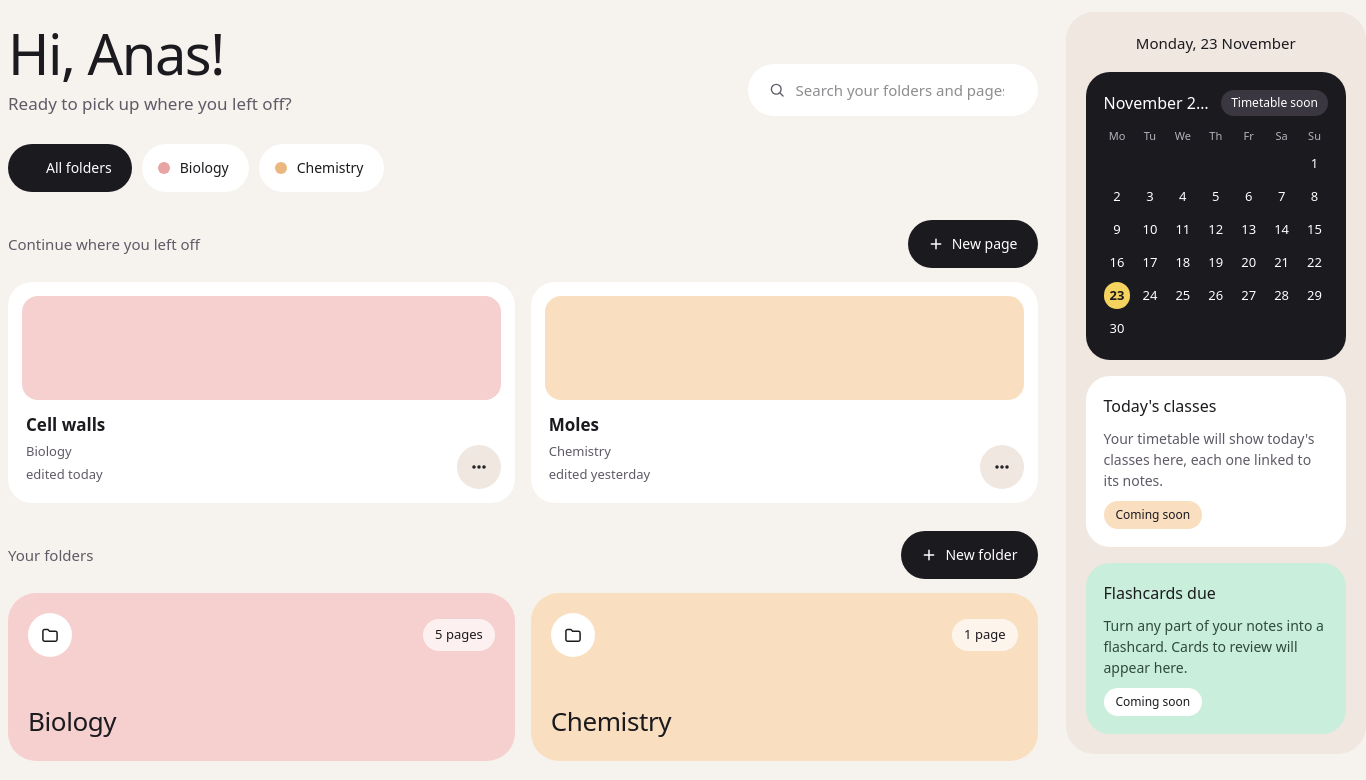
Dashboard › chip filter narrows both the folders and the recent pages
Click the button "Chemistry". click: (321, 168)
box: [259,144,384,192]
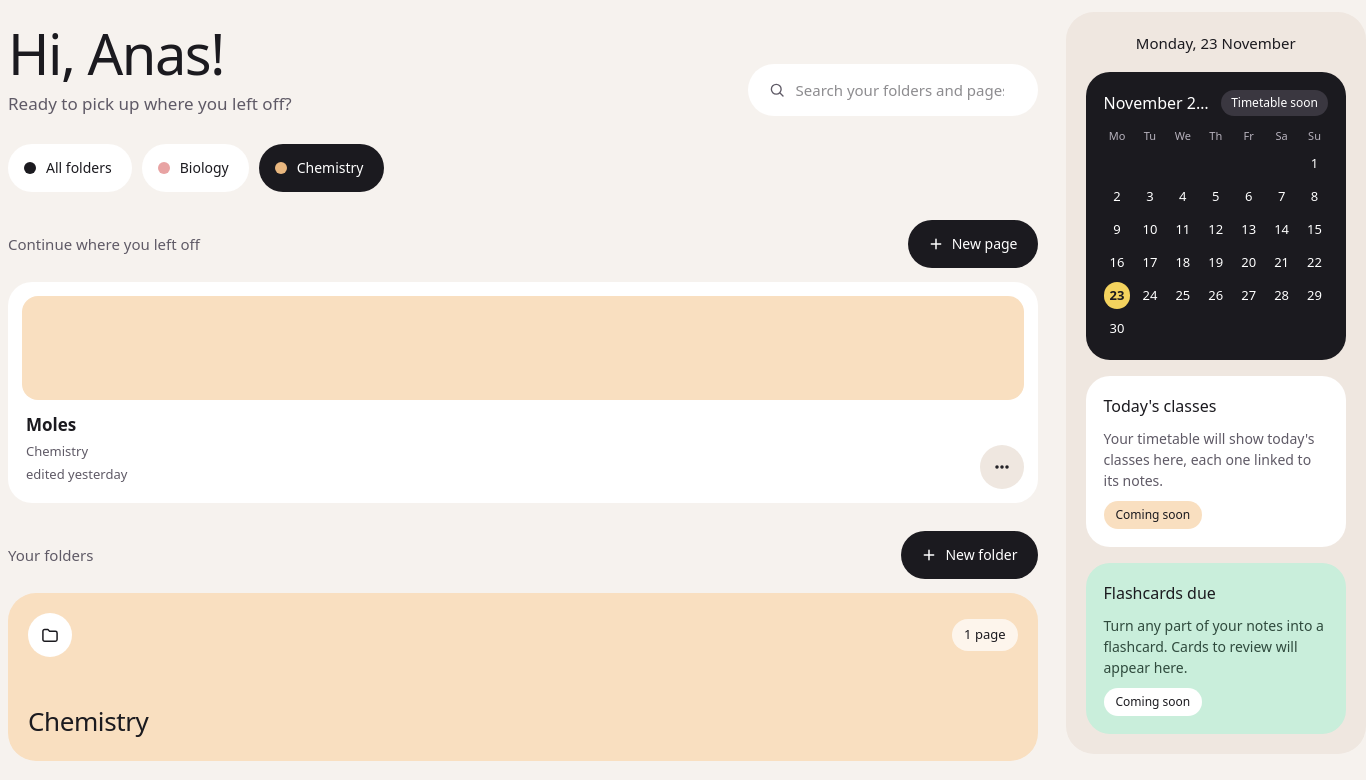
Expected: the link "Moles Chemistry edited yesterday" is shown, [22,296,1024,489]
Now the link "Cell walls" is gone
Click the button "All folders". click: (70, 168)
box: [8,144,132,192]
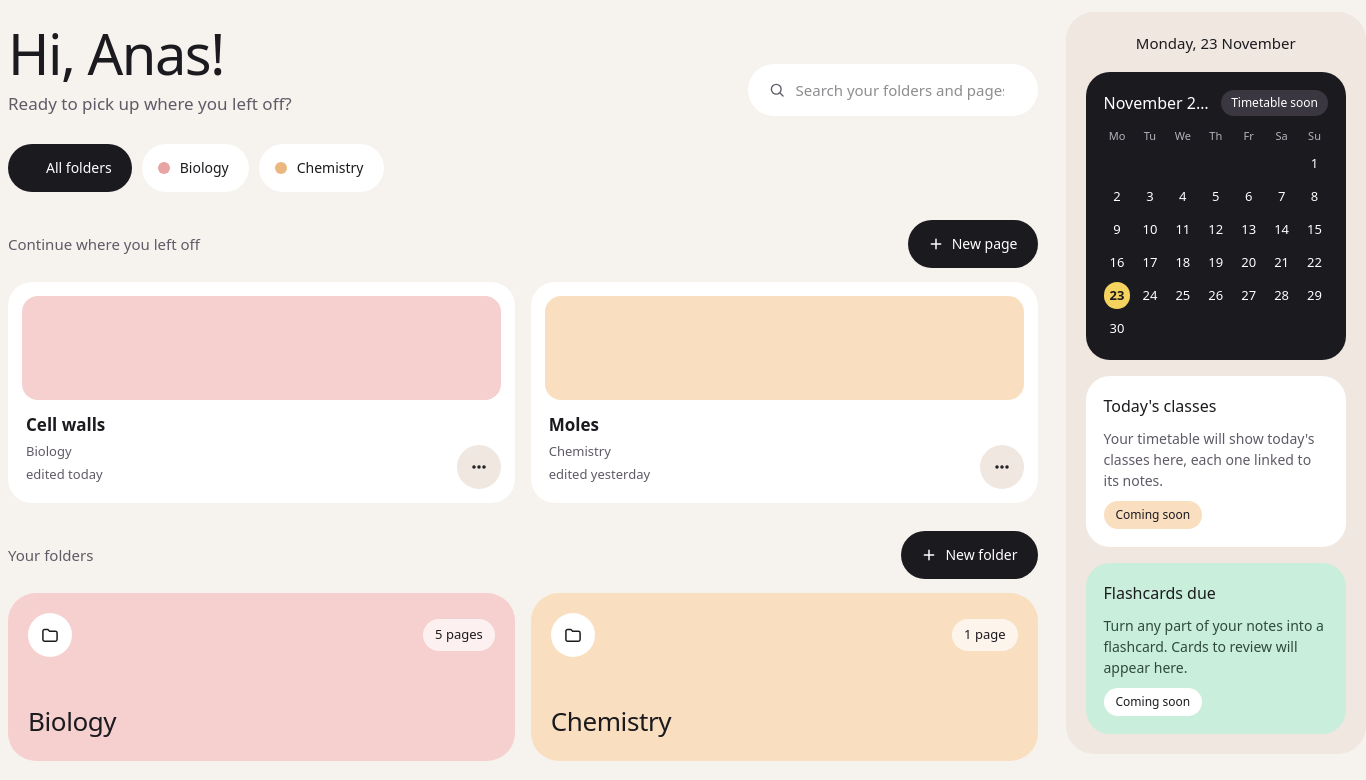
Now the link "Cell walls Biology edited today" is shown, box [22,296,501,489]
